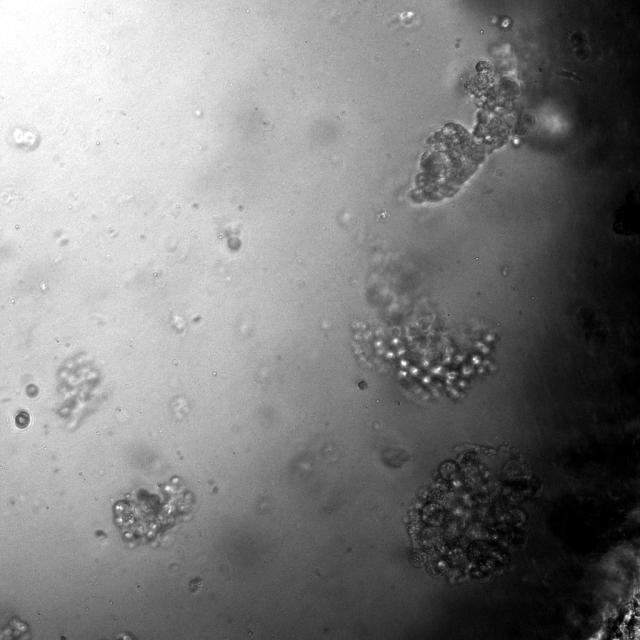organoid: (350, 252, 497, 404), (405, 445, 541, 582), (406, 61, 532, 206), (112, 476, 194, 545), (55, 351, 101, 430), (6, 125, 39, 151), (568, 29, 592, 62), (0, 616, 29, 639), (12, 409, 32, 430), (489, 14, 512, 29), (189, 577, 203, 593), (227, 236, 241, 250), (26, 383, 39, 397), (358, 379, 368, 390)
